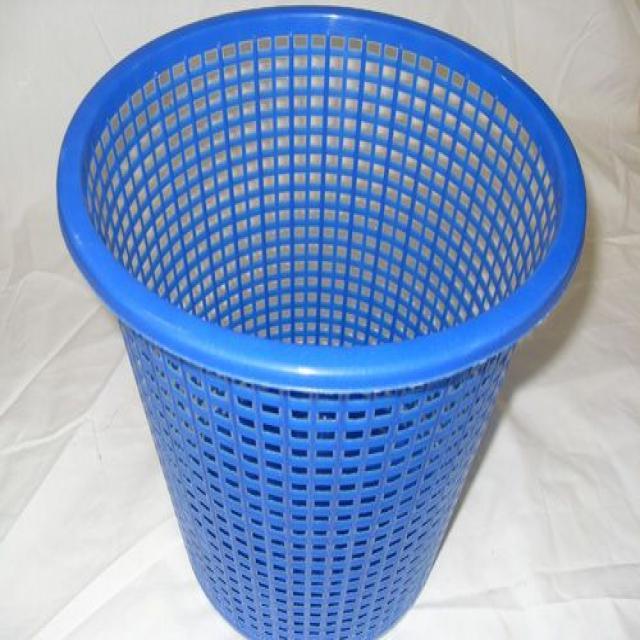dustbin: (53, 2, 594, 639)
